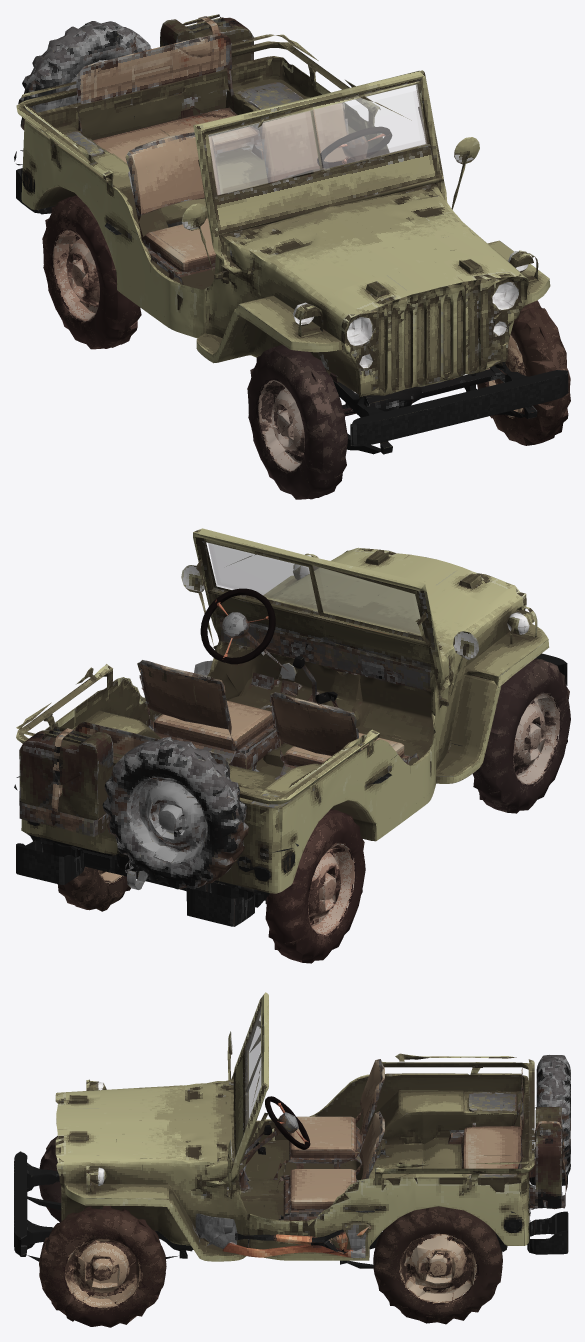
File: jeep.glb
The picture shows the model from 3 angles, top to bottom: view 1: azimuth 30°, elevation 25°; view 2: azimuth 150°, elevation 25°; view 3: azimuth 270°, elevation 25°; orthographic projection. The views are drawn at different scales.
Visible parts, largest first — view 1: body, glass, wheel_fr, wheel_rr, wheel_fl, steering_wheel; view 2: body, wheel_fr, wheel_rr, glass, wheel_rl, steering_wheel; view 3: body, wheel_fl, wheel_rl, glass, wheel_fr, steering_wheel.
Boxes of the visible parts, <box> form: body: <box>14,14,568,454</box>; glass: <box>208,84,528,366</box>; wheel_fr: <box>247,344,355,499</box>; wheel_rr: <box>42,195,141,349</box>; wheel_fl: <box>477,300,570,445</box>; steering_wheel: <box>317,126,392,168</box>; body: <box>14,528,567,926</box>; wheel_fr: <box>472,658,570,813</box>; wheel_rr: <box>265,809,365,963</box>; glass: <box>208,543,422,635</box>; wheel_rl: <box>57,866,130,911</box>; steering_wheel: <box>200,588,275,664</box>; body: <box>14,992,570,1268</box>; wheel_fl: <box>39,1206,166,1327</box>; wheel_rl: <box>373,1206,502,1324</box>; glass: <box>245,1009,261,1128</box>; wheel_fr: <box>39,1136,61,1222</box>; steering_wheel: <box>265,1096,310,1149</box>.
Bounding box in the file's own units: 1.72 × 1.63 × 3.4.
7 materials, 7 textured.
